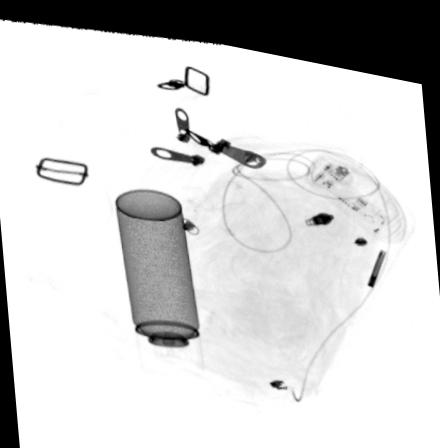Sprayer: (112, 181, 204, 374)
